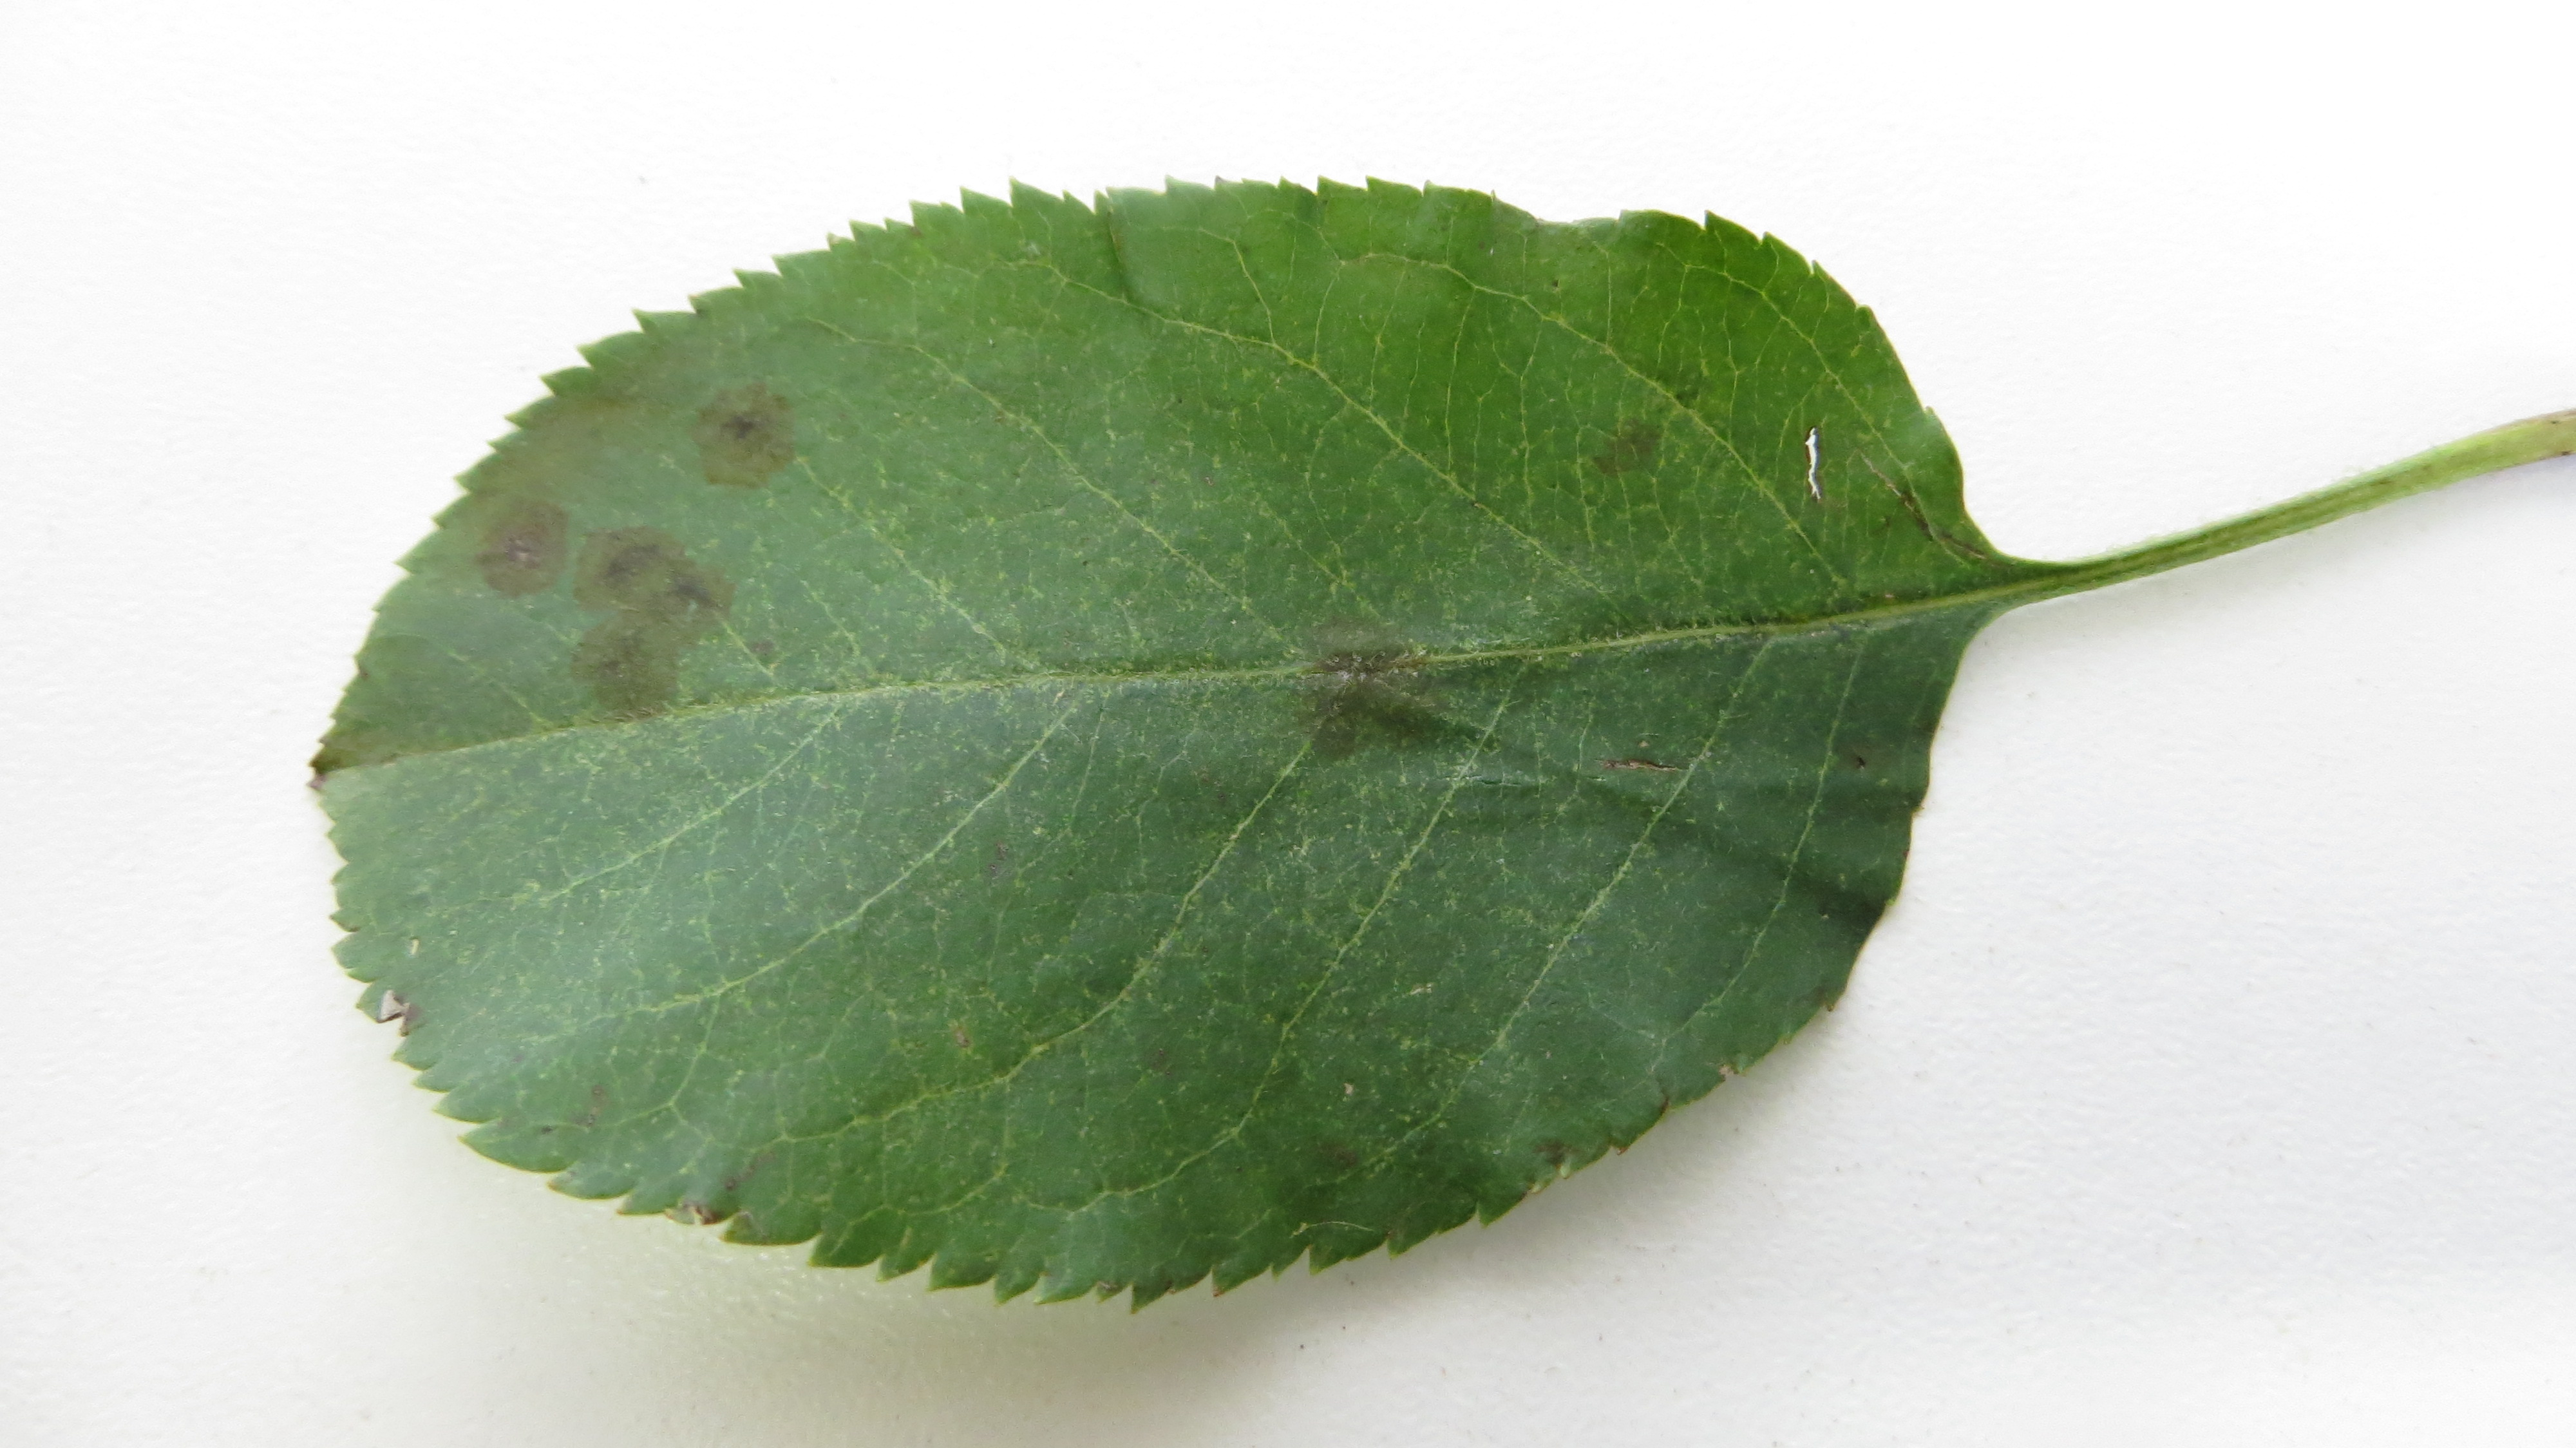sarna: (1297, 616, 1440, 761), (564, 515, 729, 639), (458, 471, 579, 612), (683, 368, 810, 499), (561, 621, 697, 729), (1575, 405, 1677, 492)
